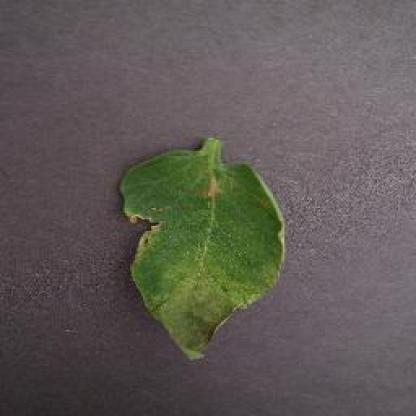bad leaf: (124, 163, 284, 358)
